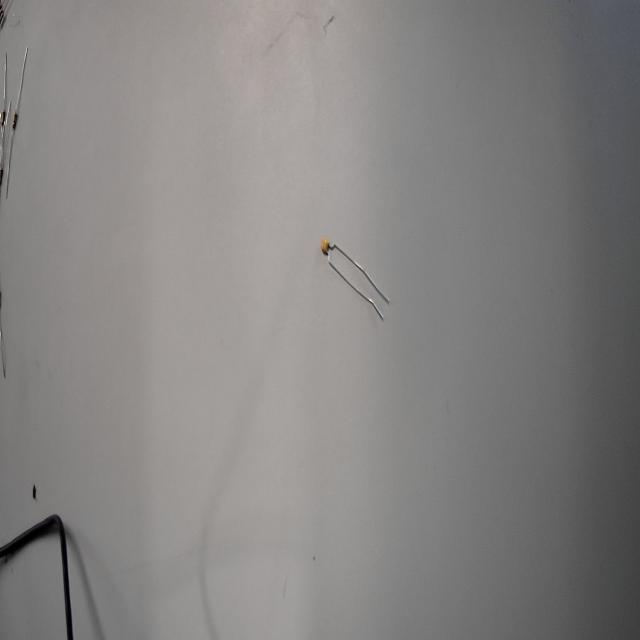capacitor: (312, 226, 353, 286)
